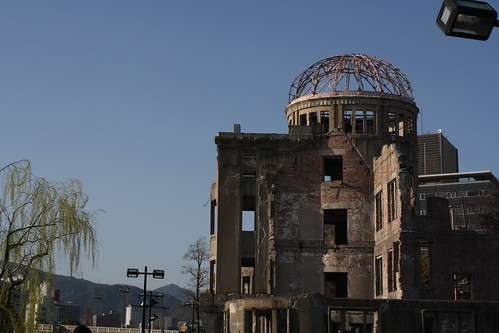building: (195, 47, 499, 333)
sky: (9, 2, 294, 283)
tree: (1, 165, 101, 329)
